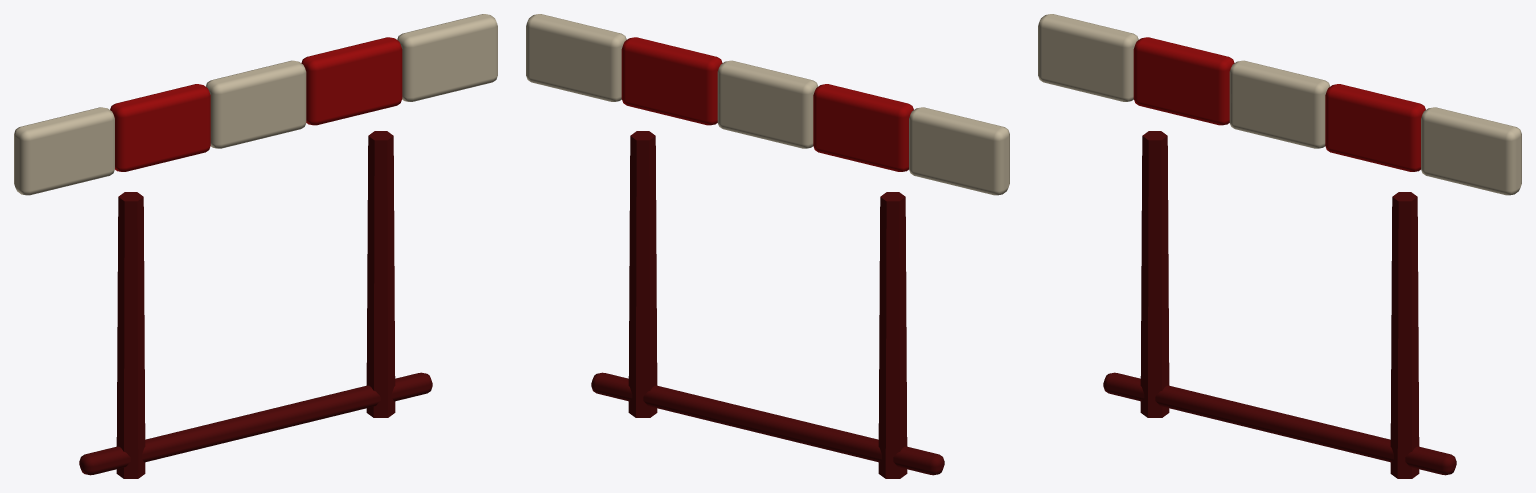
File: rao_chan.glb
The picture shows the model from 3 angles, left to right: view 1: azimuth 30°, elevation 25°; view 2: azimuth 150°, elevation 25°; view 3: azimuth 330°, elevation 25°; orthographic projection.
Visible parts, largest first — view 1: Mesh_0; view 2: Mesh_0; view 3: Mesh_0.
Boxes of the visible parts, x1,y1,x2,y2 form: Mesh_0: [14, 14, 497, 478]; Mesh_0: [526, 14, 1009, 478]; Mesh_0: [1038, 14, 1521, 478].
Bounding box in the file's own units: 1.3 × 0.965 × 0.068.
